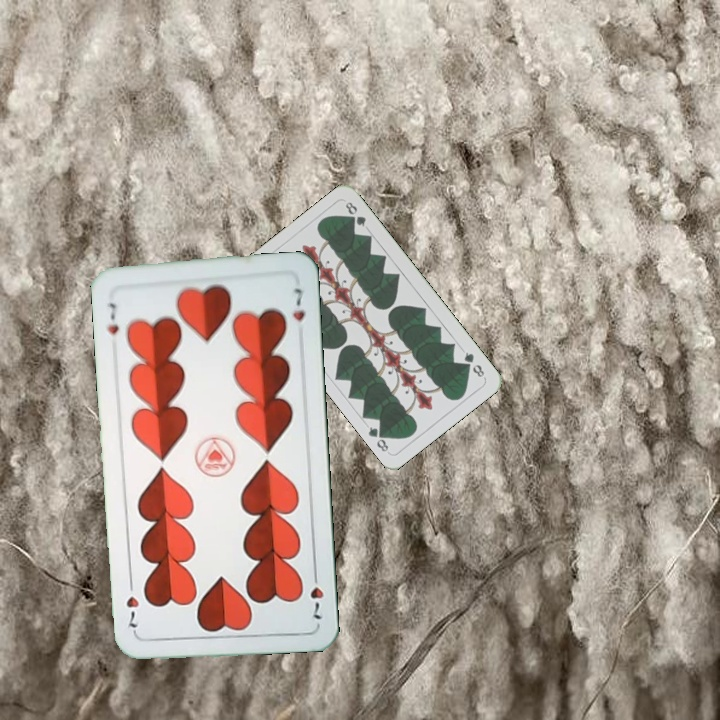G8: (460, 348, 488, 381)
H7: (306, 566, 327, 622), (103, 298, 121, 337)
